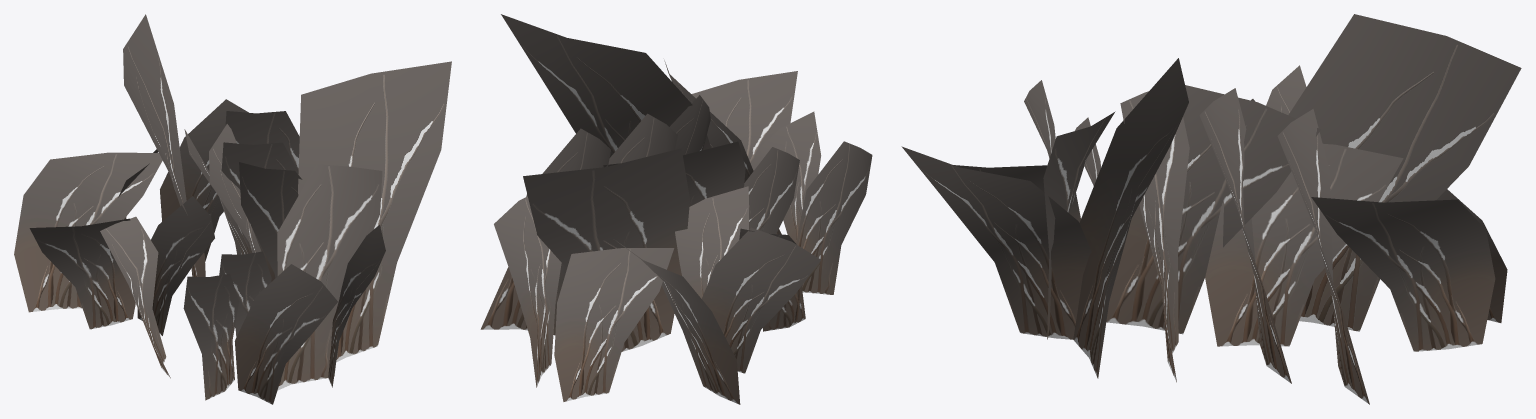
The model's file is Grass_A_Group_02.FBX.
The picture shows the model from 3 angles, left to right: view 1: azimuth 30°, elevation 25°; view 2: azimuth 150°, elevation 25°; view 3: azimuth 270°, elevation 25°; orthographic projection. The views are drawn at different scales.
Parts seen in each view (by area): view 1: Grass_A_Group_02; view 2: Grass_A_Group_02; view 3: Grass_A_Group_02.
Boxes of the visible parts, x1=… form: Grass_A_Group_02: x1=14, y1=14, x2=451, y2=404; Grass_A_Group_02: x1=480, y1=14, x2=872, y2=404; Grass_A_Group_02: x1=901, y1=14, x2=1521, y2=404.
Size of the model in its own units: 123 by 75.99 by 145.
